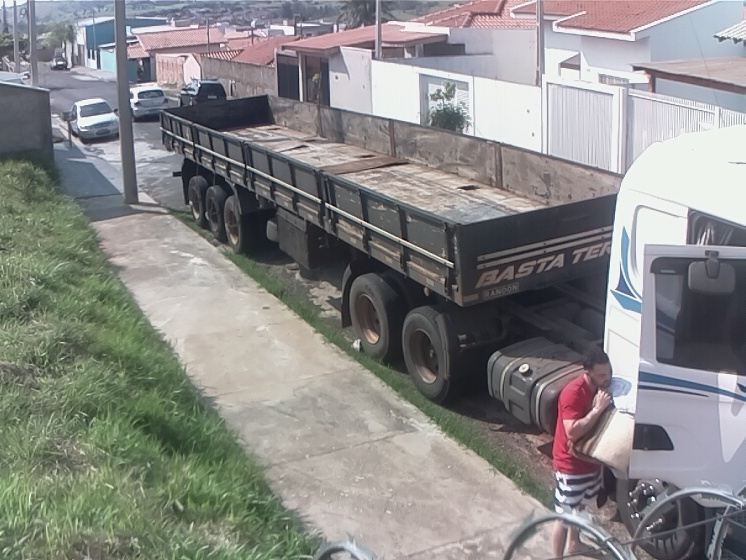person: (544, 346, 618, 560)
